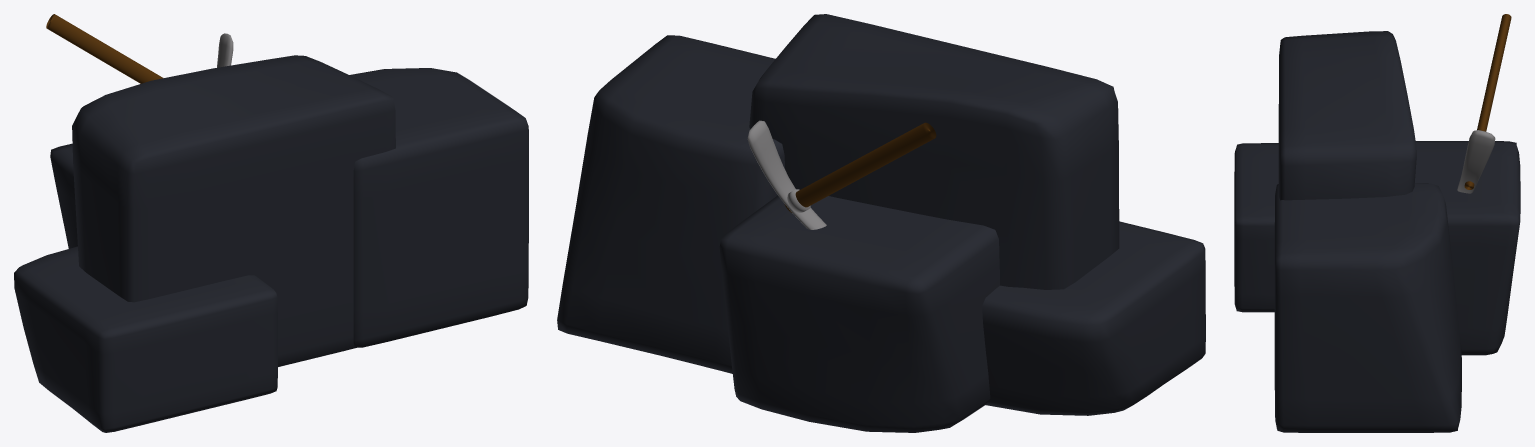
The model's file is BlackRockPit.fbx.
3 renders of one model, left to right at view 1: azimuth 30°, elevation 25°; view 2: azimuth 150°, elevation 25°; view 3: azimuth 270°, elevation 25°, orthographic. The views are drawn at different scales.
Visible parts, largest first — view 1: Cube.002, Cube.004, Cube.003, Cylinder.001, Cube.001; view 2: Cube.002, Cube.001, Cube.004, Cube.003, Cylinder.001, Cube; view 3: Cube.004, Cube.002, Cube.001, Cube.003, Cube, Cylinder.001.
Part boxes in pixels (x1,y1,x2,y2): Cube.002: (72, 55, 395, 366); Cube.004: (349, 68, 528, 347); Cube.003: (14, 246, 277, 432); Cylinder.001: (46, 14, 163, 83); Cube.001: (50, 143, 77, 248); Cube.002: (749, 14, 1119, 289); Cube.001: (719, 195, 999, 432); Cube.004: (557, 35, 784, 373); Cube.003: (982, 221, 1205, 415); Cylinder.001: (784, 122, 936, 212); Cube: (747, 120, 826, 229); Cube.004: (1274, 183, 1461, 432); Cube.002: (1278, 31, 1416, 200); Cube.001: (1415, 141, 1520, 355); Cube.003: (1234, 143, 1278, 312); Cube: (1457, 130, 1495, 193); Cylinder.001: (1464, 14, 1511, 189).
Bounding box in the file's own units: 507 × 310 × 302.
